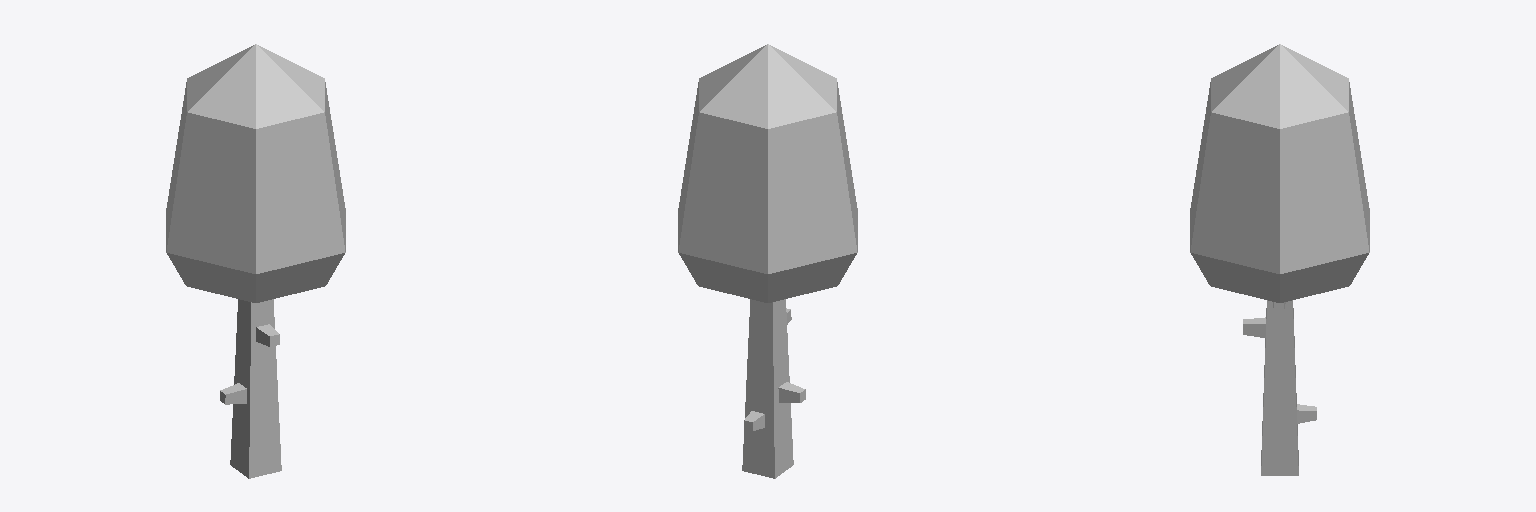
File: tree_default.obj
The picture shows the model from 3 angles: view 1: azimuth 30°, elevation 25°; view 2: azimuth 150°, elevation 25°; view 3: azimuth 270°, elevation 25°; orthographic projection.
Parts seen in each view (by area): view 1: tree_default; view 2: tree_default; view 3: tree_default.
Part boxes in pixels (x1,y1,x2,y2): tree_default: (166, 44, 345, 478); tree_default: (678, 44, 857, 478); tree_default: (1190, 44, 1369, 475).
Size of the model in its own units: 7.55 by 17.08 by 6.54.